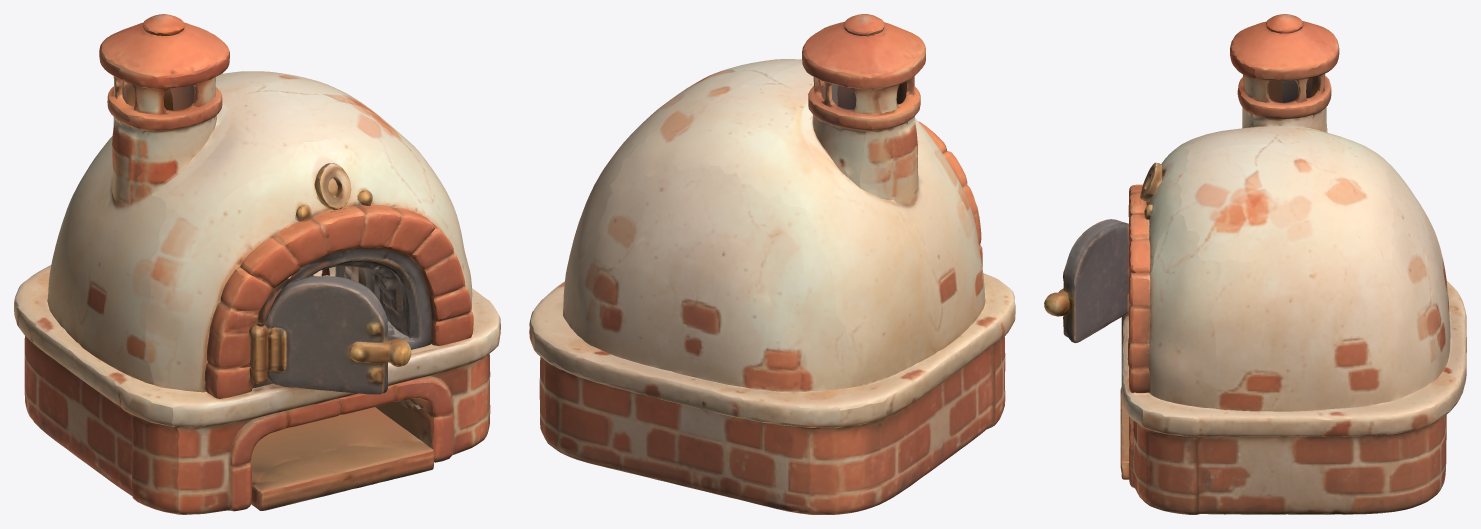
The model's file is A1_烤炉_暖色材质版.glb.
The picture shows the model from 3 angles, left to right: view 1: azimuth 30°, elevation 25°; view 2: azimuth 150°, elevation 25°; view 3: azimuth 270°, elevation 25°; orthographic projection. The views are drawn at different scales.
Parts seen in each view (by area): view 1: Oven_Original_Mesh; view 2: Oven_Original_Mesh; view 3: Oven_Original_Mesh.
Part boxes in pixels (<box>): Oven_Original_Mesh: <box>14,14,500,514</box>; Oven_Original_Mesh: <box>529,14,1015,514</box>; Oven_Original_Mesh: <box>1044,14,1466,514</box>.
Bounding box in the file's own units: 0.358 × 0.4 × 0.3963.
1 material, 1 textured.
